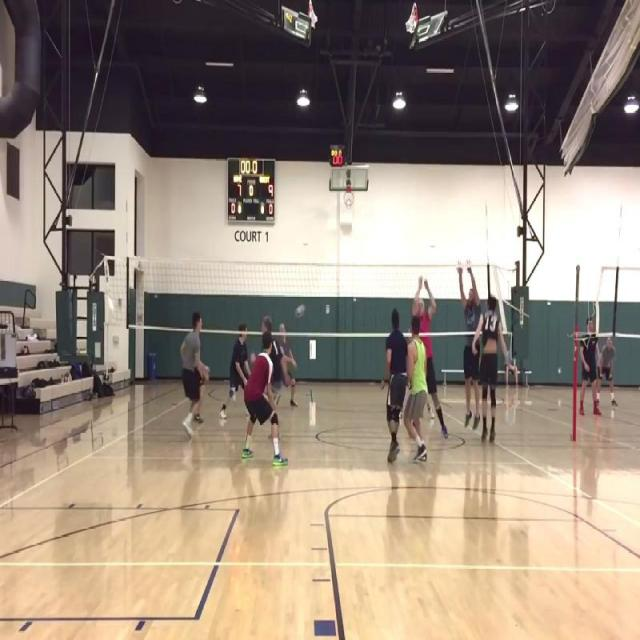volleyball: (295, 307, 301, 317)
